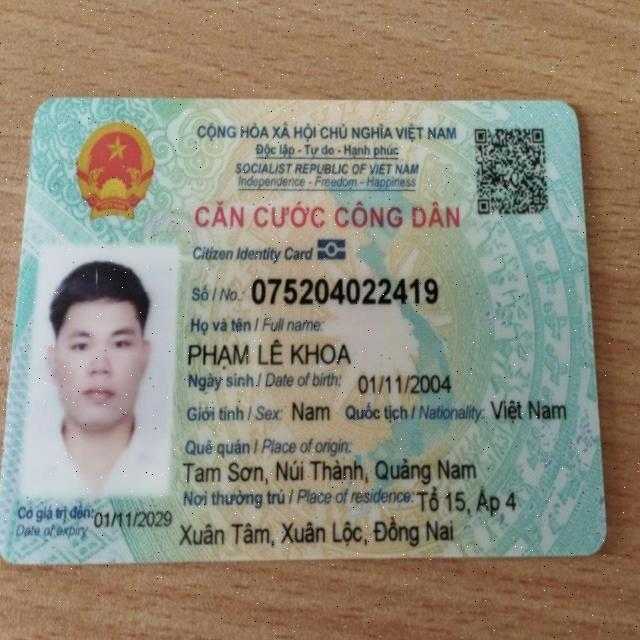current_place: (178, 515, 455, 551), (415, 484, 518, 520)
dob: (354, 371, 454, 397)
expire_date: (92, 507, 174, 531)
gender: (290, 399, 332, 424)
id: (248, 273, 441, 309)
name: (186, 337, 354, 372)
nationality: (489, 397, 568, 426)
origin_place: (181, 457, 478, 486)
qr: (466, 119, 565, 226)
